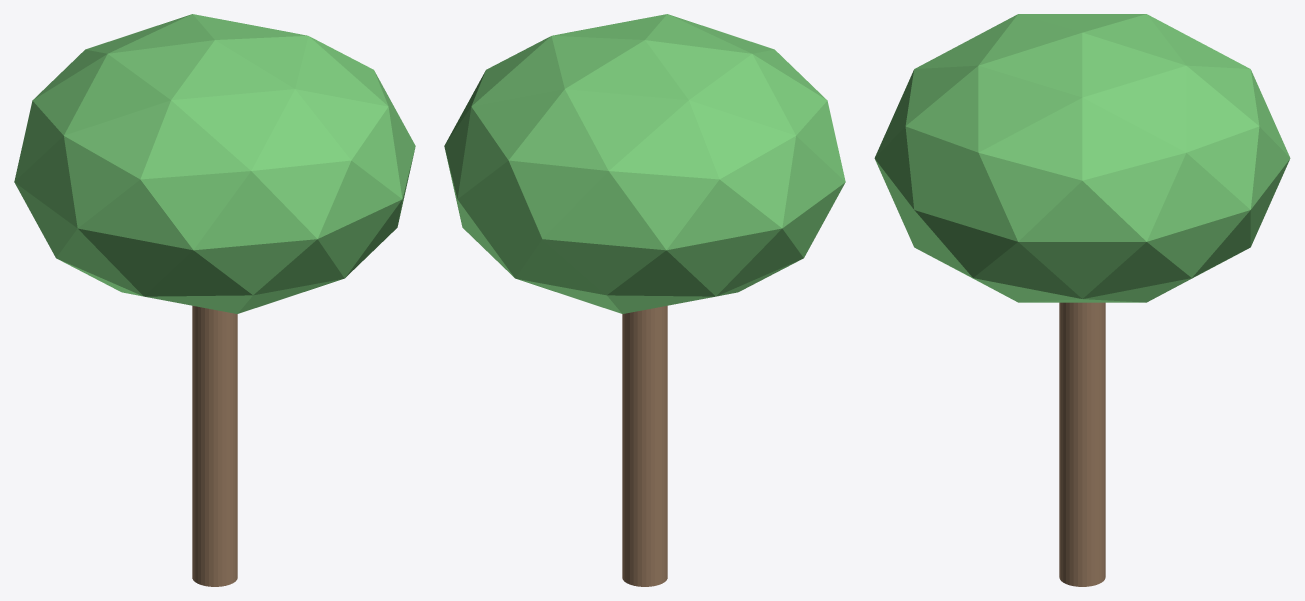
The model's file is tree.fbx.
3 views of the same model, side by side, from view 1: azimuth 30°, elevation 25°; view 2: azimuth 150°, elevation 25°; view 3: azimuth 270°, elevation 25° (orthographic).
Parts seen in each view (by area): view 1: TREE_Leaves, TREE_Trunk; view 2: TREE_Leaves, TREE_Trunk; view 3: TREE_Leaves, TREE_Trunk.
Boxes of the visible parts, <box> form: TREE_Leaves: <box>14,14,415,313</box>; TREE_Trunk: <box>192,305,237,586</box>; TREE_Leaves: <box>444,14,845,313</box>; TREE_Trunk: <box>622,305,667,586</box>; TREE_Leaves: <box>874,14,1290,302</box>; TREE_Trunk: <box>1059,302,1105,586</box>.
Size of the model in its own units: 3.42 by 5.2 by 3.6.
